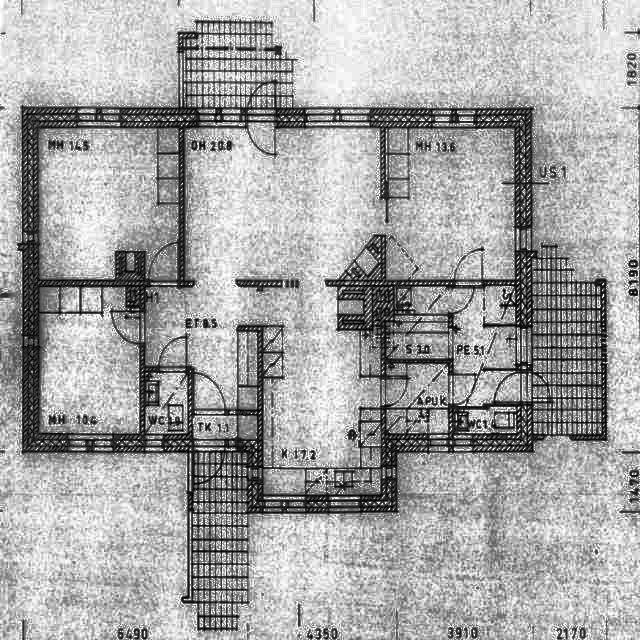room: (39, 128, 179, 279), (39, 286, 140, 432), (385, 363, 449, 434), (146, 374, 187, 433)
